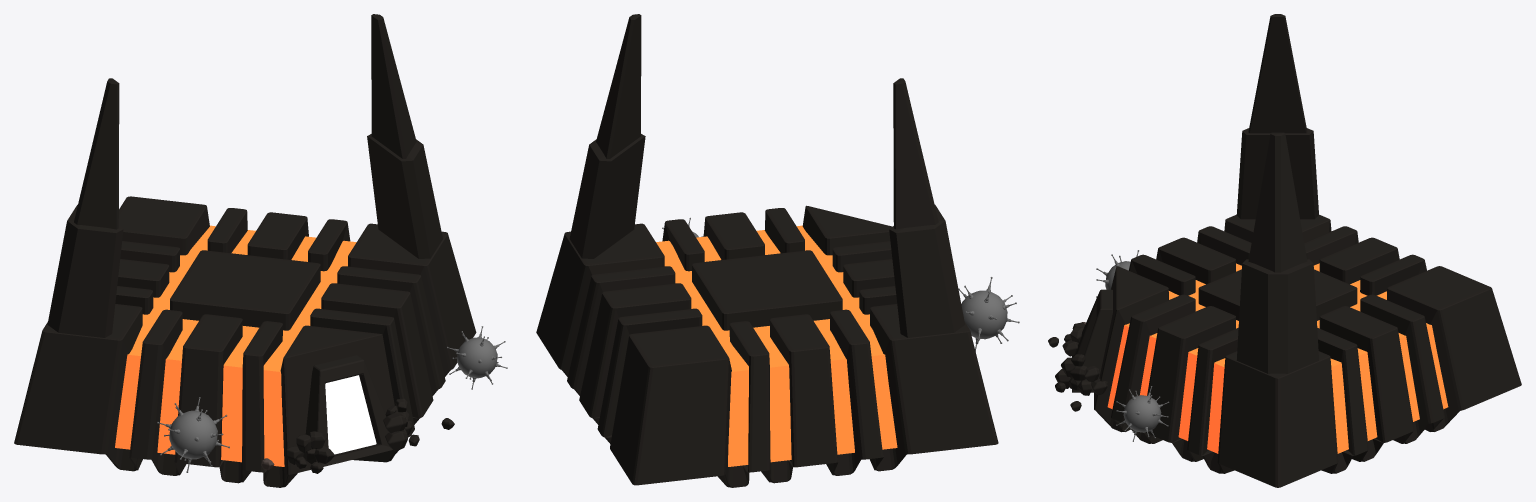
File: asset.glb
The picture shows the model from 3 angles, left to right: view 1: azimuth 30°, elevation 25°; view 2: azimuth 150°, elevation 25°; view 3: azimuth 270°, elevation 25°; orthographic projection. The views are drawn at different scales.
Parts seen in each view (by area): view 1: Main, Emittor, Objects, Door, Extras; view 2: Main, Emittor, Objects; view 3: Main, Emittor, Extras, Objects.
Part boxes in pixels (x1,y1,x2,y2): Main: (14, 14, 476, 487); Emittor: (115, 225, 356, 466); Objects: (157, 326, 507, 472); Door: (325, 375, 376, 454); Extras: (261, 398, 454, 473); Main: (536, 14, 998, 487); Emittor: (656, 225, 897, 466); Objects: (662, 217, 1019, 351); Main: (1072, 14, 1521, 487); Emittor: (1107, 263, 1448, 453); Extras: (1048, 322, 1107, 411); Objects: (1096, 250, 1169, 441).
Bounding box in the file's own units: 1.18 × 0.8785 × 1.15.
